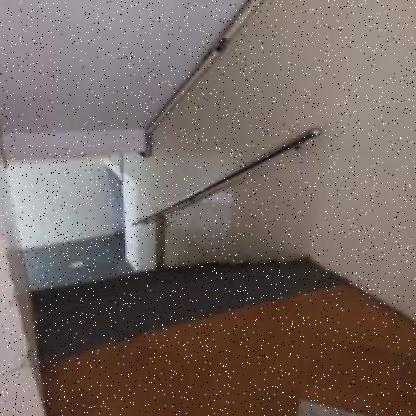stair_down: (52, 242, 245, 326)
